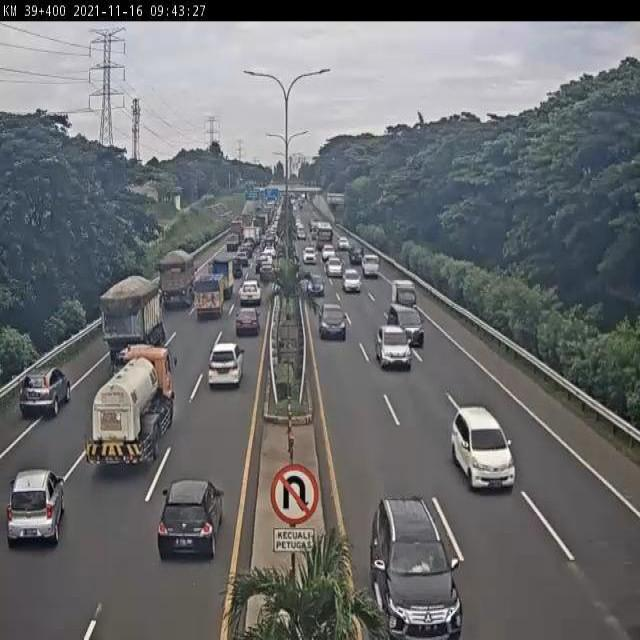car: (366, 494, 463, 638), (160, 476, 224, 564), (456, 400, 514, 493), (8, 464, 65, 547), (16, 354, 71, 422), (207, 341, 239, 395), (395, 305, 424, 340), (381, 331, 408, 365), (234, 305, 256, 335), (323, 302, 343, 334), (239, 278, 260, 302), (362, 256, 380, 279), (304, 269, 321, 292), (344, 266, 360, 290), (347, 240, 363, 263), (320, 238, 334, 258), (261, 261, 272, 284), (326, 255, 340, 273), (305, 248, 317, 265)
small truck: (193, 270, 221, 322), (208, 259, 234, 300), (392, 280, 416, 315)
truck-m-: (84, 342, 178, 474), (101, 279, 164, 364), (160, 250, 193, 310)
